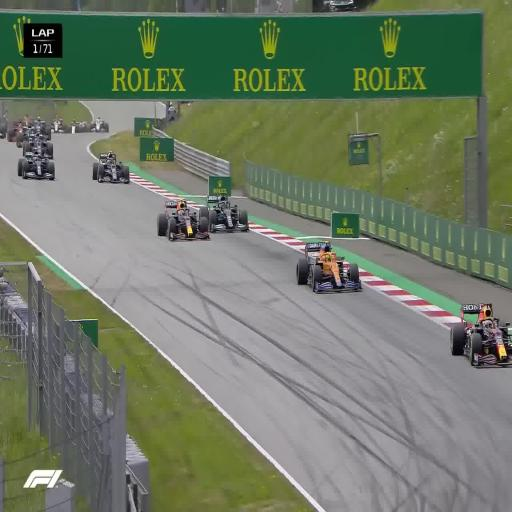f1_car: (450, 303, 512, 366), (296, 240, 362, 291), (157, 198, 209, 240), (207, 195, 249, 232), (93, 150, 129, 183), (17, 148, 54, 180), (22, 131, 53, 159), (8, 120, 30, 144), (30, 114, 50, 137), (90, 118, 109, 135), (48, 118, 66, 133), (68, 119, 82, 134)
